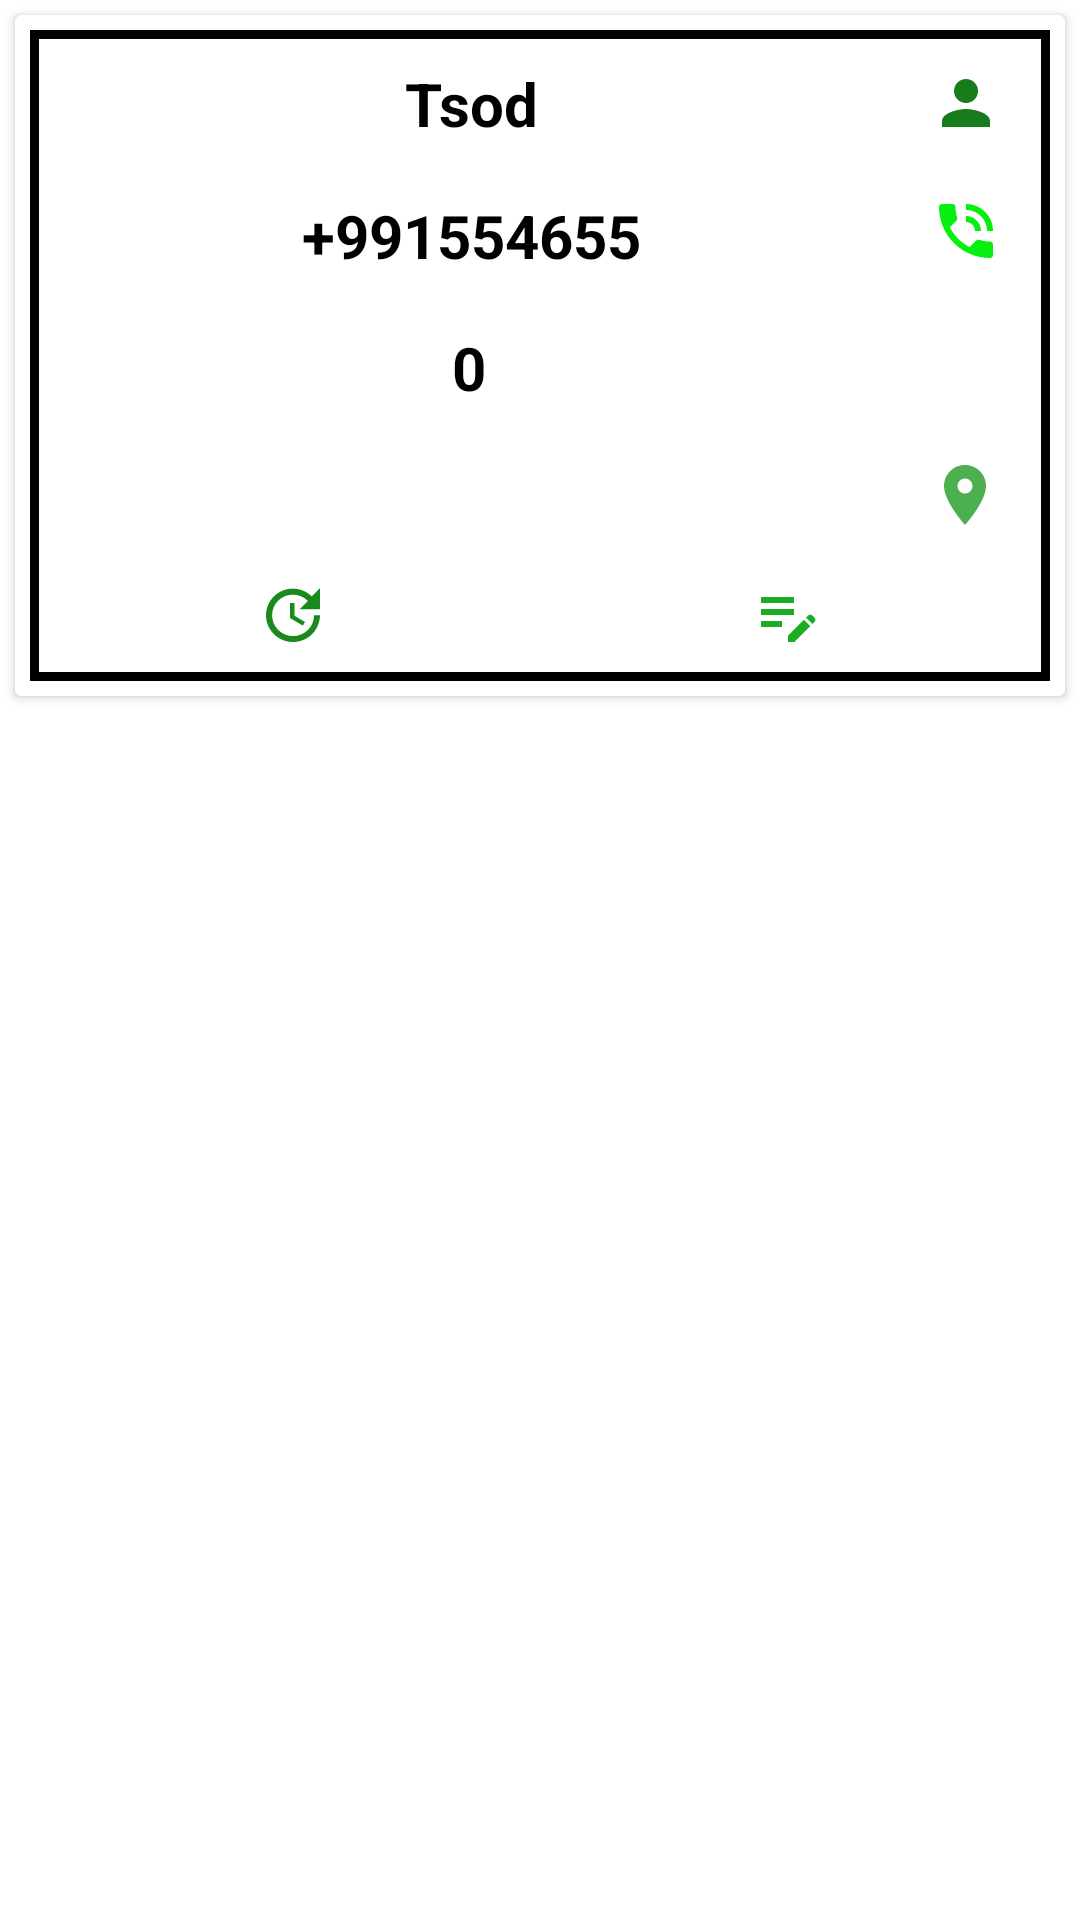

Where icons sit on this 1080w x 1920h app screen, as (x1, y1, x2, y2):
edit: (761, 597, 816, 642)
location: (944, 465, 986, 525)
person: (942, 79, 990, 127)
phone: (939, 204, 993, 258)
update: (266, 588, 320, 642)
